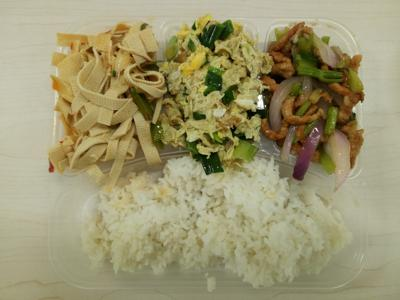cjd: (165, 19, 259, 164)
gdf: (54, 23, 171, 167)
rice: (87, 158, 348, 292)
